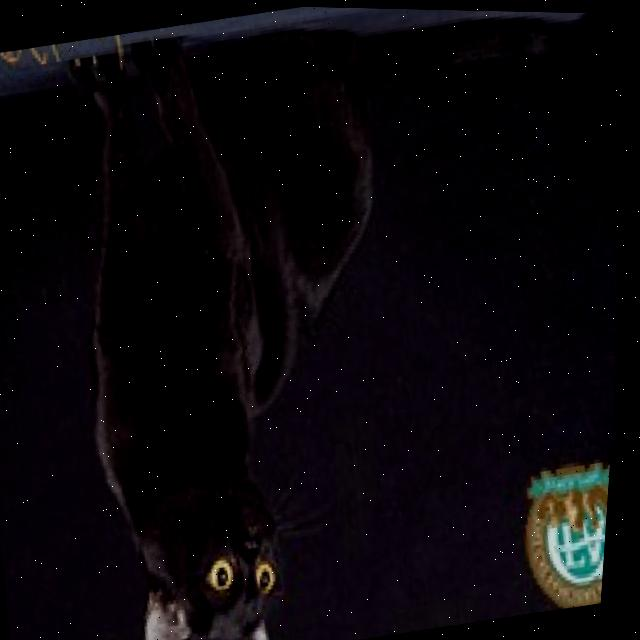Bombay: (13, 1, 640, 640)
